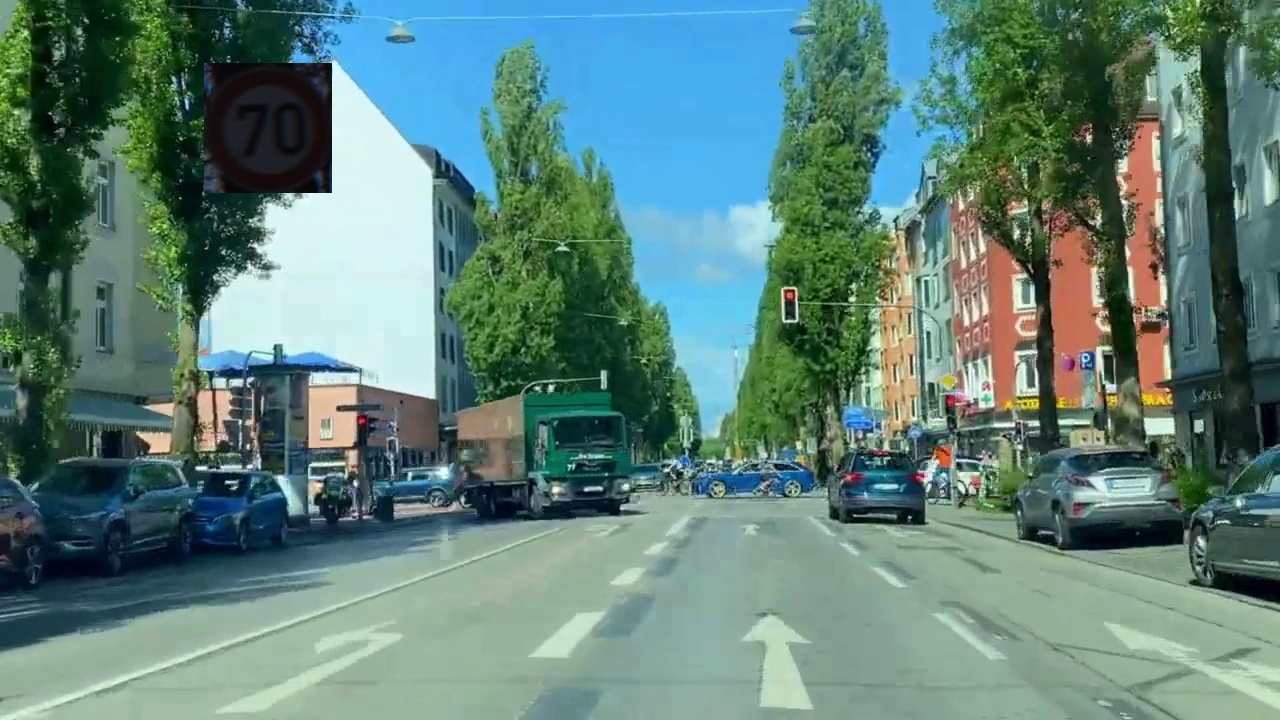Speed 70: (204, 63, 332, 193)
